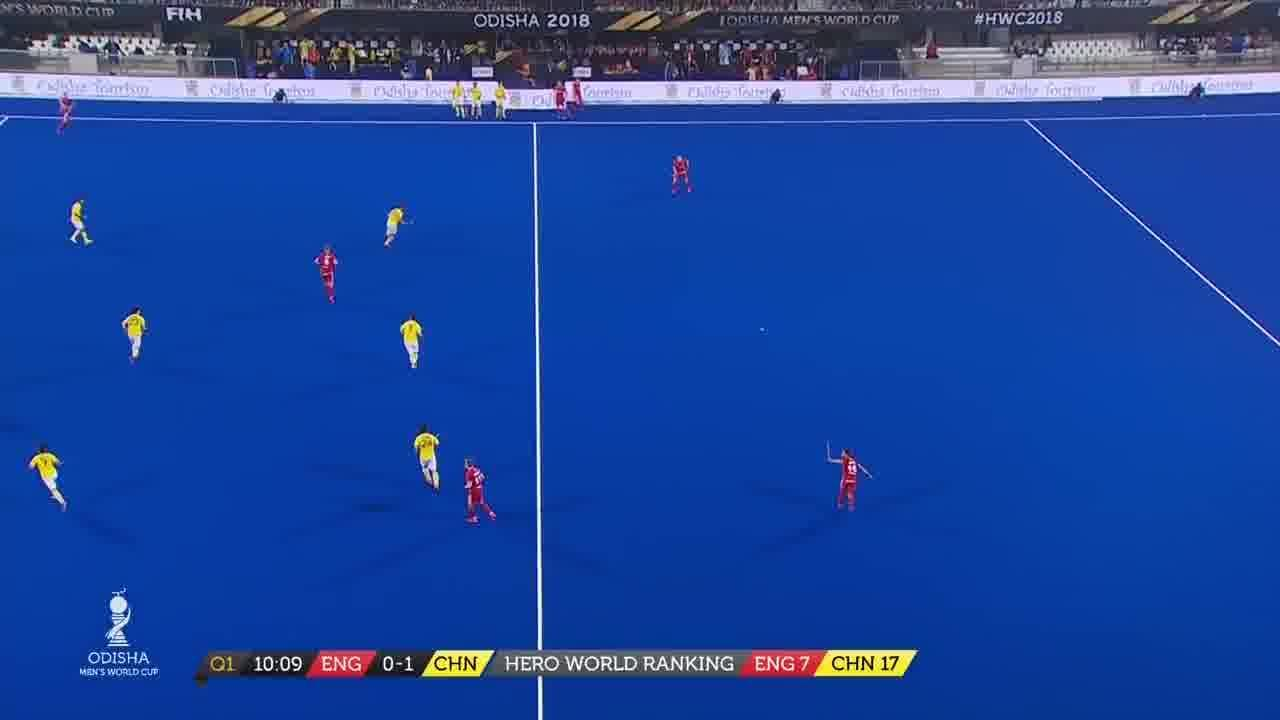ball: (756, 324, 769, 335)
